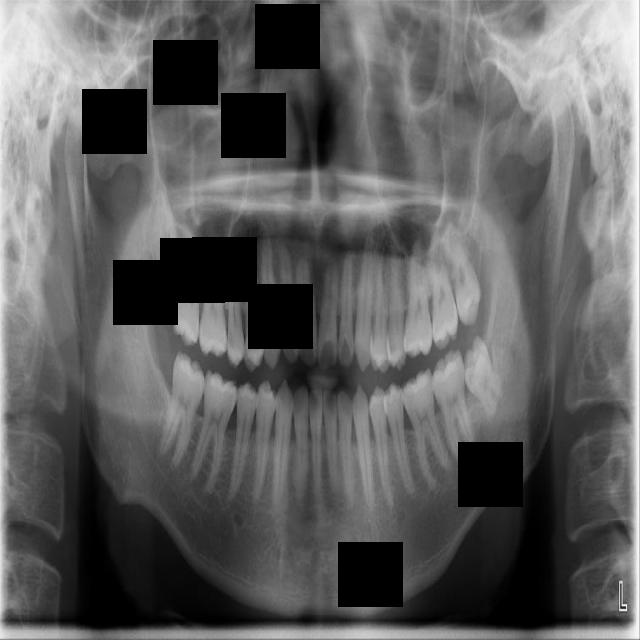3M ESPE Implant: (146, 177, 188, 298)
73: (567, 559, 573, 573)
BioHorizons Implant: (431, 232, 459, 350)
BioLife Implant: (443, 218, 487, 329)
Biomet 3i Implant: (453, 334, 510, 422)
Blue Sky Bio Implant: (428, 347, 479, 468)
Caries: (170, 214, 210, 346)
Implant: (156, 349, 211, 471)
